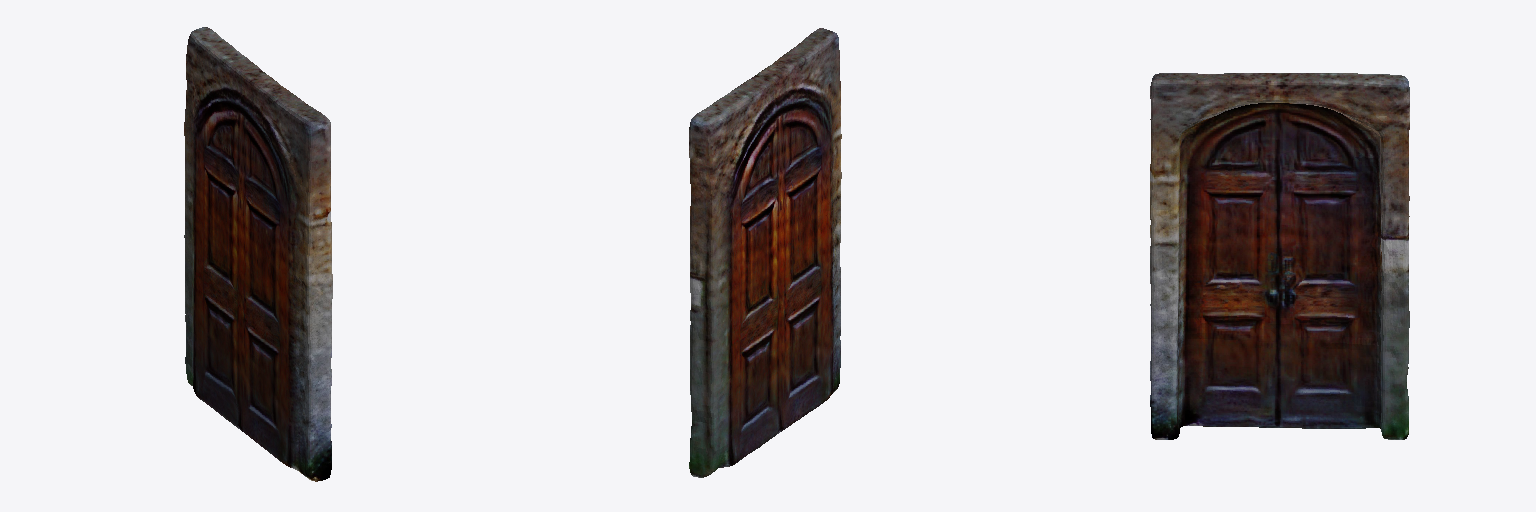
The picture shows the model from 3 angles: view 1: azimuth 30°, elevation 25°; view 2: azimuth 150°, elevation 25°; view 3: azimuth 270°, elevation 25°; orthographic projection.
Parts seen in each view (by area): view 1: mesh; view 2: mesh; view 3: mesh.
Boxes of the visible parts, x1=… form: mesh: x1=184, y1=27, x2=332, y2=481; mesh: x1=689, y1=28, x2=841, y2=477; mesh: x1=1150, y1=73, x2=1409, y2=439.
Size of the model in its own units: 0.0912 by 0.9993 by 0.6509.
1 materials, 1 textured.